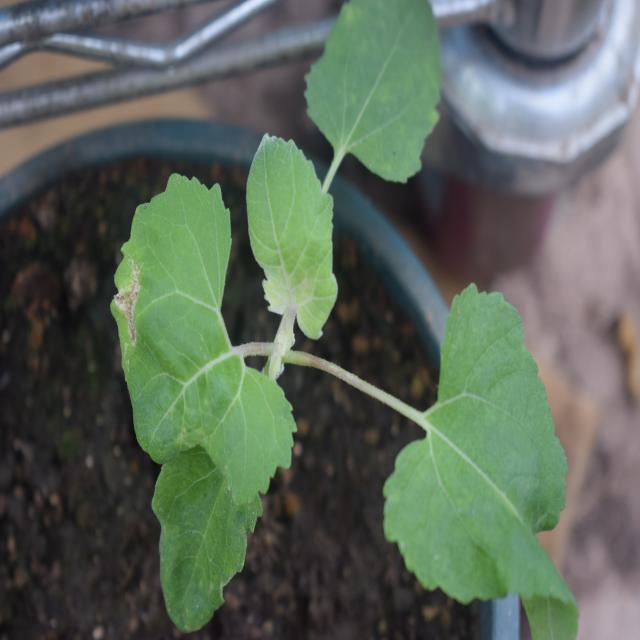cocklebur: (101, 48, 571, 590)
